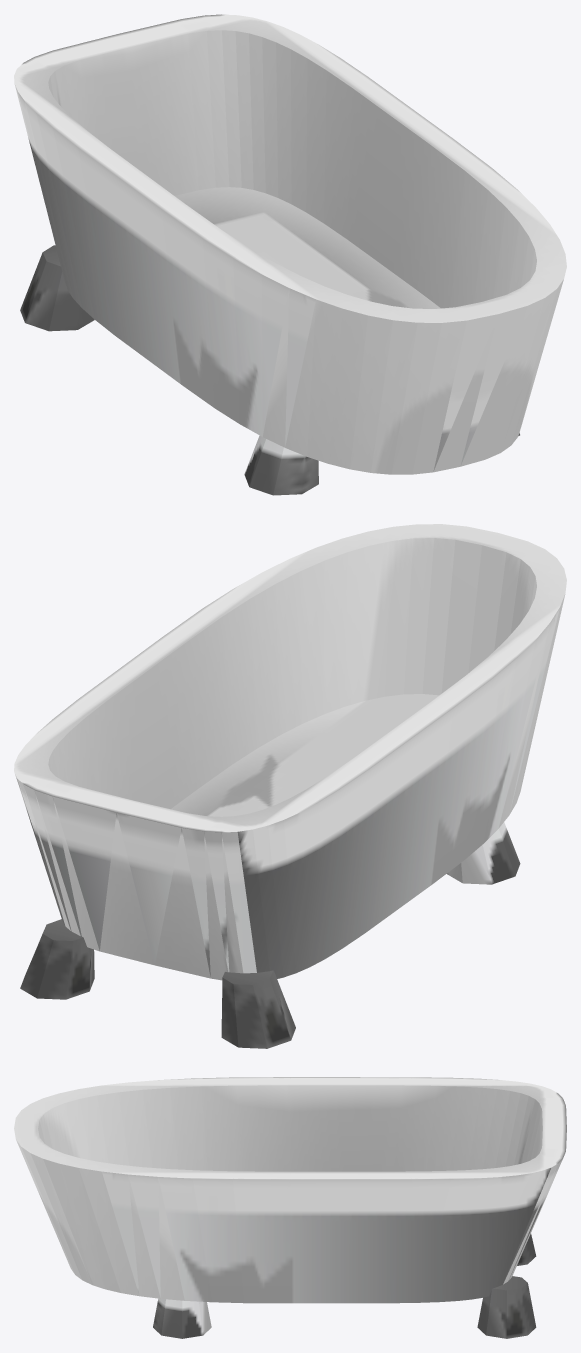
Rendered from Building_AncientBathtub.glb.
3 renders of one model, top to bottom at view 1: azimuth 30°, elevation 25°; view 2: azimuth 150°, elevation 25°; view 3: azimuth 270°, elevation 25°, orthographic. The views are drawn at different scales.
Parts seen in each view (by area): view 1: AncientBathtub; view 2: AncientBathtub; view 3: AncientBathtub.
Boxes of the visible parts, bbox=[...] form: AncientBathtub: bbox=[14, 14, 566, 495]; AncientBathtub: bbox=[14, 524, 566, 1048]; AncientBathtub: bbox=[14, 1077, 566, 1338].
Bounding box in the file's own units: 0.81 × 0.6 × 1.84.
1 material, 1 textured.
